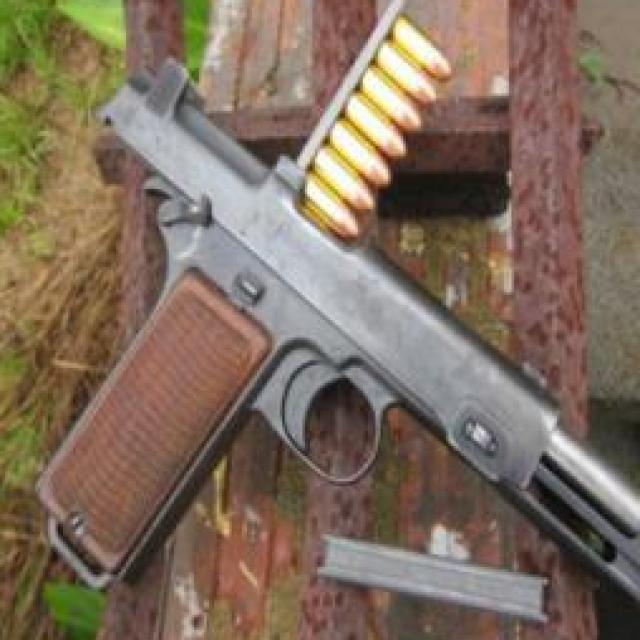pistol: (30, 48, 640, 602)
